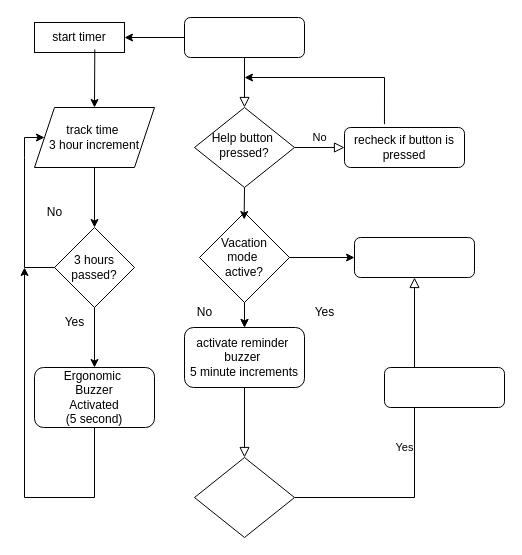
Some shapes in this 522 by 555 pixel diagram are drawn without their labels. The box of each missing label's shape, as (x1, y1, x2, y2) in pixels:
Ignore Help Button: (354, 236, 474, 278)
Ignore lights ON: (384, 366, 504, 408)
initialize box: (184, 16, 304, 58)
lights ON: (194, 456, 294, 538)
